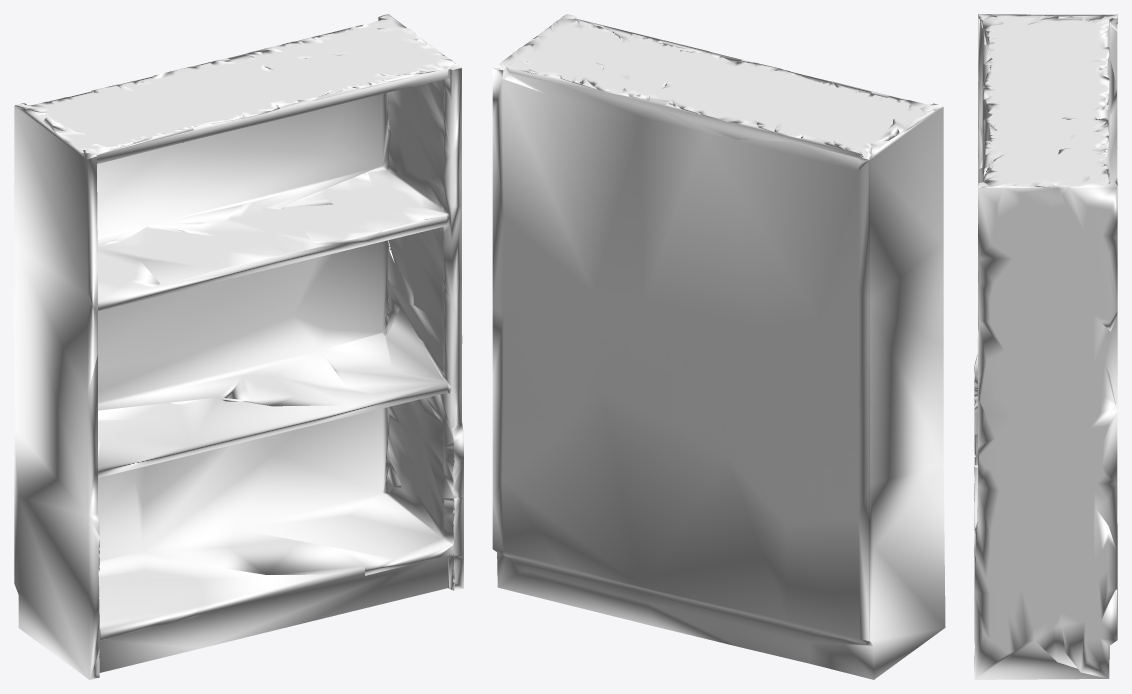
File: meshy-ikea-90522043.glb
3 views of the same model, side by side, from view 1: azimuth 30°, elevation 25°; view 2: azimuth 150°, elevation 25°; view 3: azimuth 270°, elevation 25° (orthographic). The views are drawn at different scales.
Parts seen in each view (by area): view 1: Exact catalog scale: ikea-90522043; view 2: Exact catalog scale: ikea-90522043; view 3: Exact catalog scale: ikea-90522043.
Part boxes in pixels (x1,y1,x2,y2): Exact catalog scale: ikea-90522043: [14, 14, 463, 679]; Exact catalog scale: ikea-90522043: [492, 14, 945, 679]; Exact catalog scale: ikea-90522043: [974, 14, 1117, 679].
Size of the model in its own units: 0.8 by 1.06 by 0.279.
Materials: 1 (1 with a texture image).
